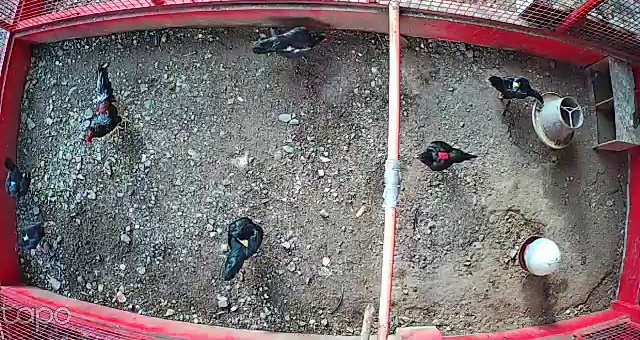Chicken: (213, 213, 268, 285), (247, 23, 331, 61), (410, 135, 480, 173), (483, 70, 548, 108), (1, 153, 35, 204), (16, 221, 53, 254)
Rooster: (84, 59, 138, 149)
Saddle_Color_Blue: (10, 181, 17, 187)
Saddle_Color_Red: (438, 152, 451, 161)
Saddle_Color_Yellow: (237, 236, 250, 249), (510, 79, 521, 91)
